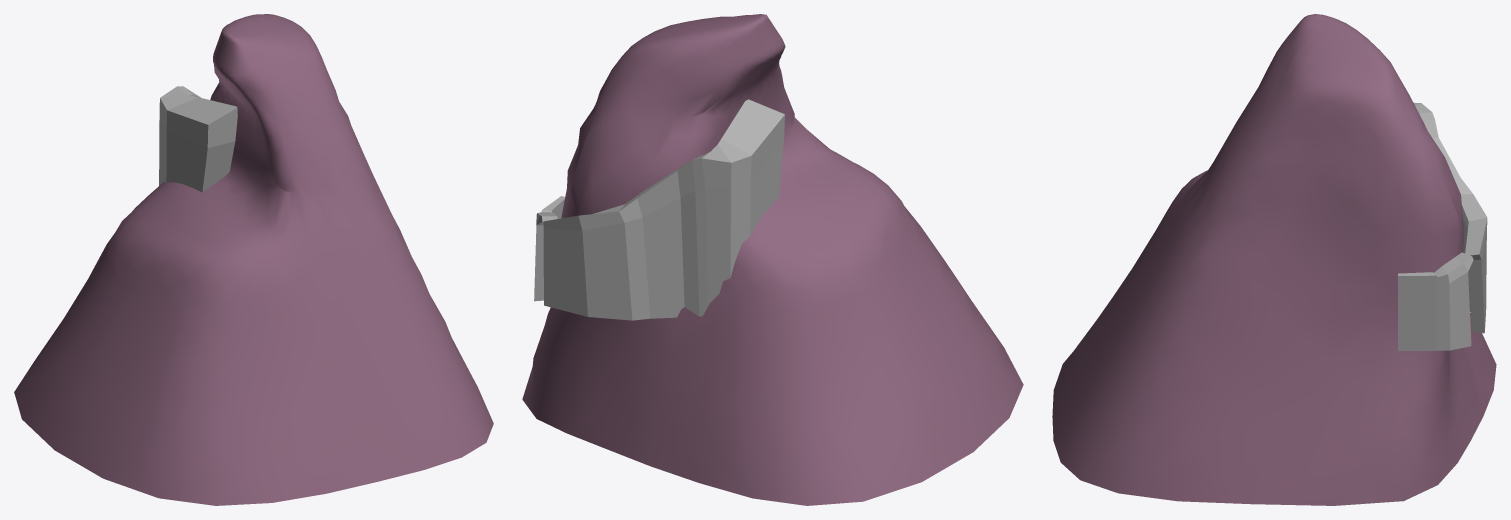
File: LevelMtFuji.glb
3 views of the same model, side by side, from view 1: azimuth 30°, elevation 25°; view 2: azimuth 150°, elevation 25°; view 3: azimuth 270°, elevation 25° (orthographic). The views are drawn at different scales.
Visible parts, largest first — view 1: mt_1, way; view 2: mt_1, way; view 3: mt_1, way.
Boxes of the visible parts, bbox=[...] form: mt_1: bbox=[14, 14, 493, 505]; way: bbox=[159, 86, 237, 192]; mt_1: bbox=[522, 14, 1023, 505]; way: bbox=[534, 99, 784, 320]; mt_1: bbox=[1052, 14, 1496, 505]; way: bbox=[1398, 102, 1487, 350].
Size of what is drawn, in the model's own units: 384 by 355 by 364.
